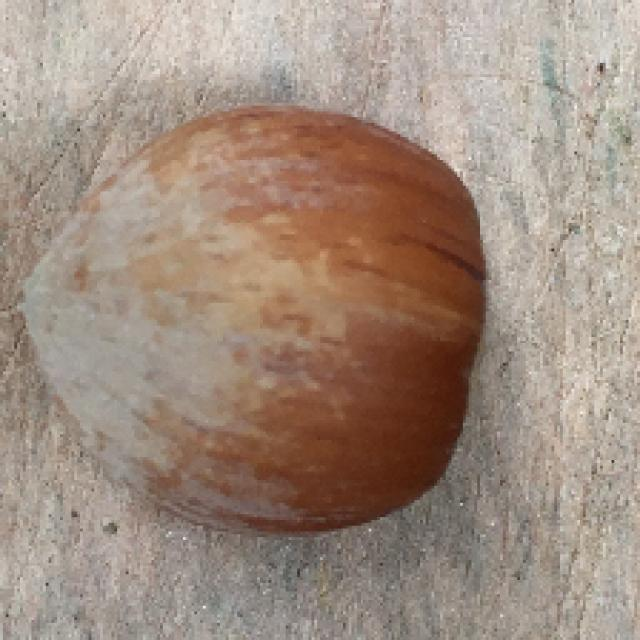qualityHazelnut: (13, 99, 494, 537)
